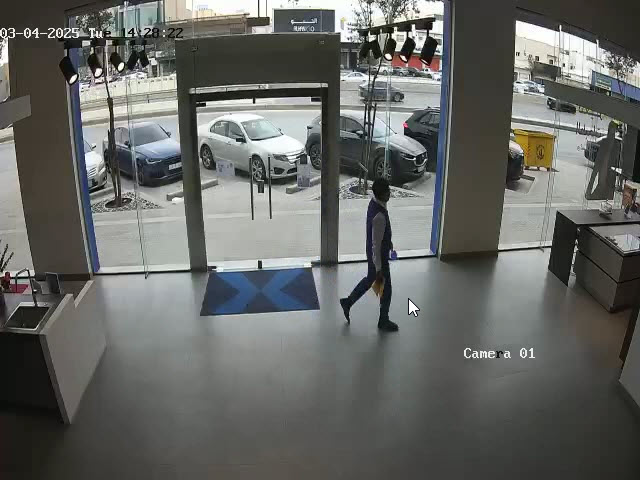employee: (339, 177, 400, 332)
